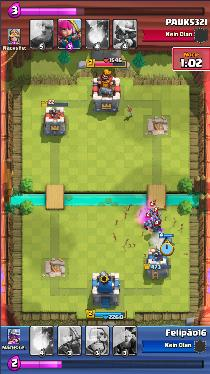ally_mini_pekka: (161, 236, 174, 248)
enemy_arrow: (111, 203, 184, 255)
enemy_mini_pekka: (153, 222, 162, 232)
enemy_minion: (143, 220, 153, 230), (149, 208, 158, 215), (153, 215, 161, 221)
